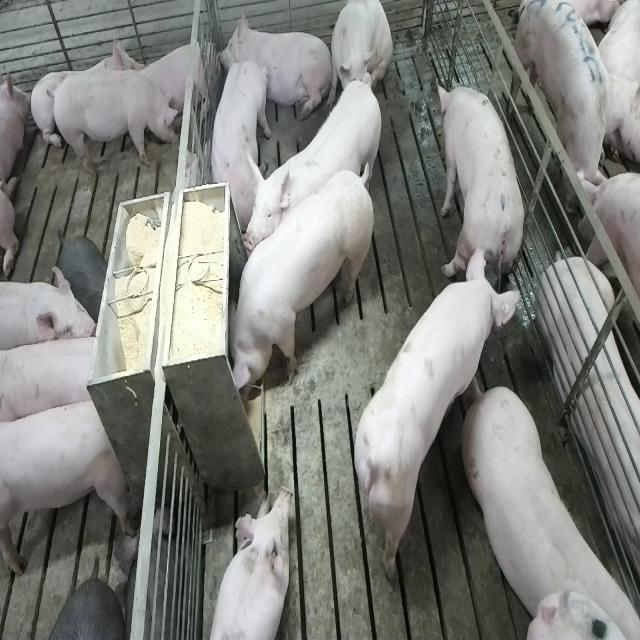Feeding: (218, 167, 370, 400)
Sitting: (328, 0, 392, 109)
Standing: (349, 258, 515, 588), (458, 377, 634, 635), (246, 74, 386, 258), (1, 391, 134, 583), (516, 0, 618, 217), (436, 81, 526, 301), (54, 66, 184, 178), (3, 332, 107, 429), (0, 270, 99, 356)
Sternal_lying: (32, 29, 142, 153), (206, 486, 292, 640), (218, 12, 326, 122), (141, 34, 213, 119)
